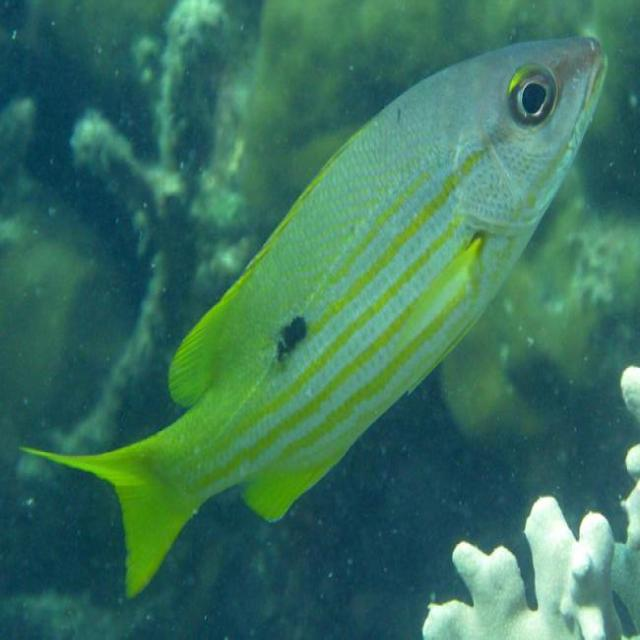ikan: (16, 32, 608, 599)
